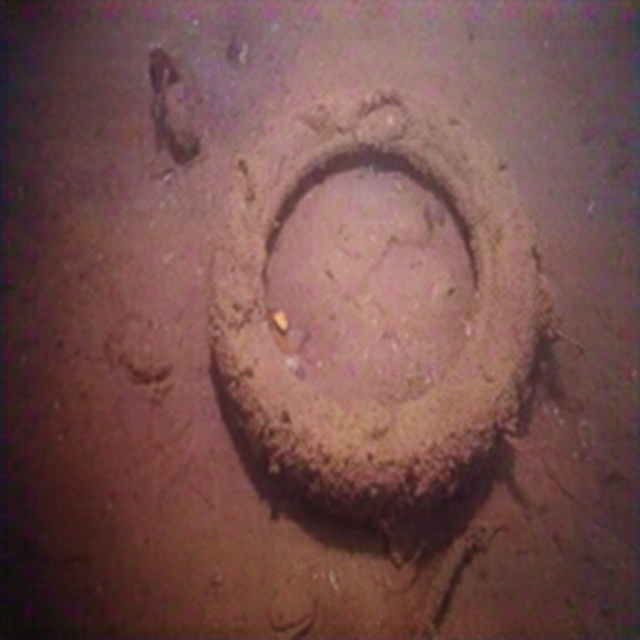mine: (207, 83, 539, 530)
